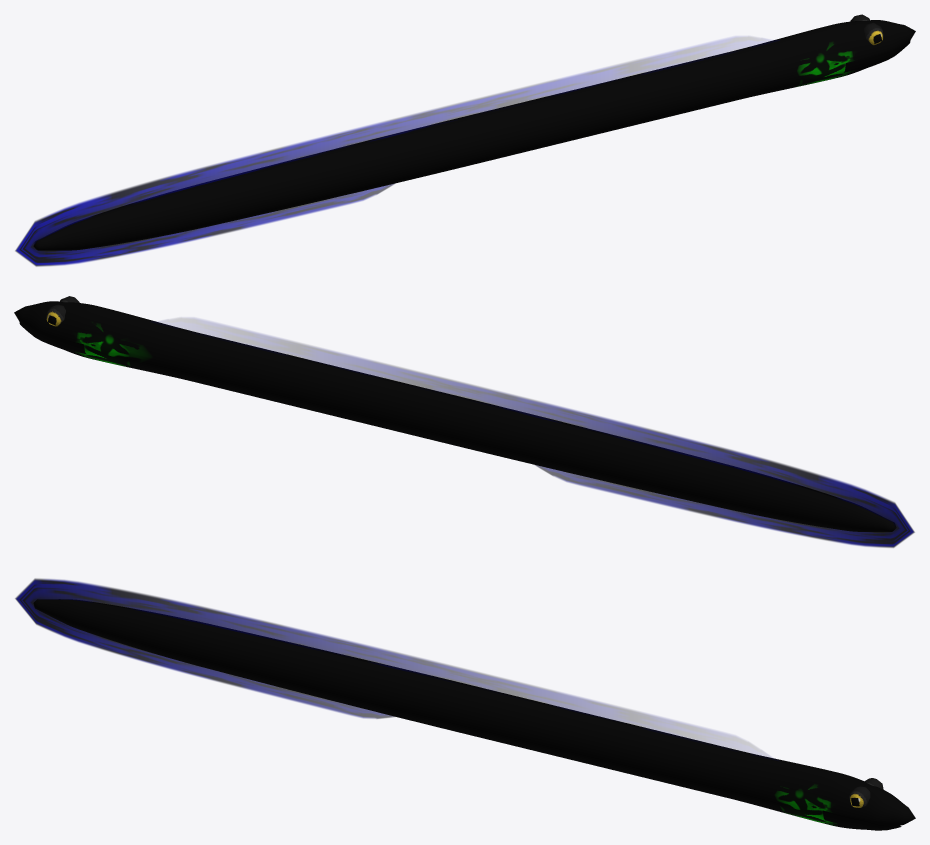
Rendered from eel_lod1.glb.
3 views of the same model, one above another, from view 1: azimuth 30°, elevation 25°; view 2: azimuth 150°, elevation 25°; view 3: azimuth 330°, elevation 25° (orthographic).
Visible parts, largest first — view 1: Body, FinDorsal, JawLower; view 2: Body, FinDorsal, JawLower; view 3: Body, FinDorsal, JawLower.
Part boxes in pixels (x1=…): Body: x1=33, y1=20, x2=915, y2=250; FinDorsal: x1=15, y1=37, x2=772, y2=266; JawLower: x1=844, y1=40, x2=910, y2=72; Body: x1=14, y1=301, x2=896, y2=531; FinDorsal: x1=157, y1=318, x2=914, y2=547; JawLower: x1=19, y1=321, x2=85, y2=353; Body: x1=33, y1=599, x2=915, y2=829; FinDorsal: x1=15, y1=578, x2=772, y2=759; JawLower: x1=822, y1=810, x2=901, y2=830.
Size of the model in its own units: 1 by 0.0814 by 0.0453.
4 materials, 3 textured.
